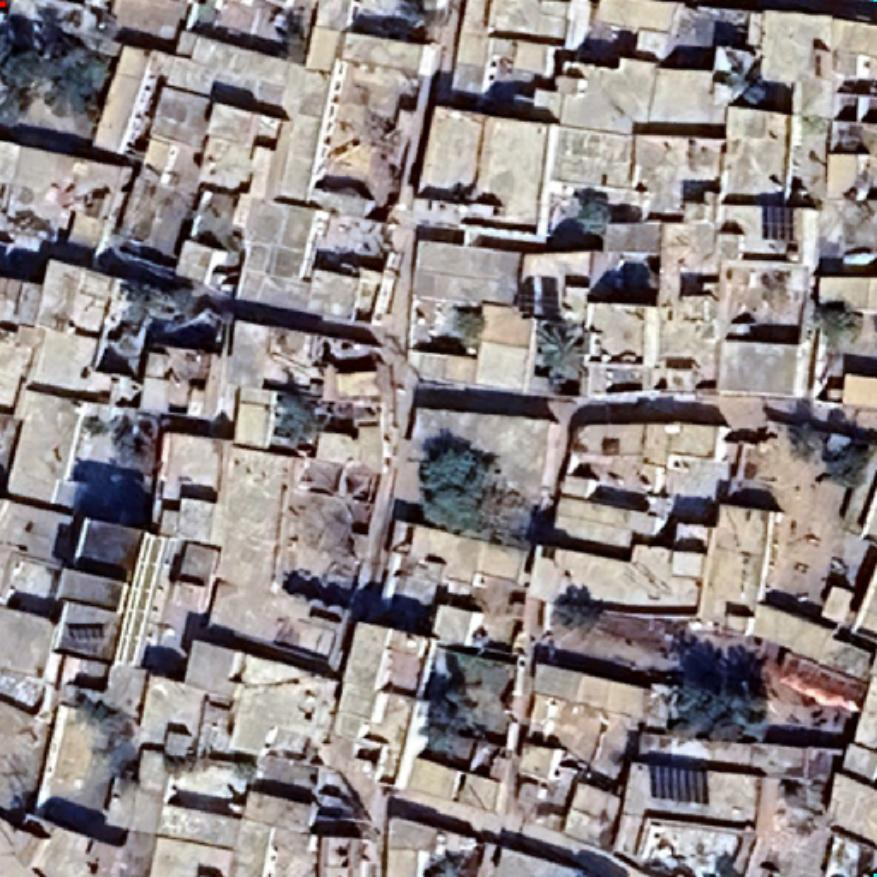Solarpanel: (645, 757, 713, 809), (514, 271, 562, 323), (758, 200, 798, 244), (64, 620, 106, 641)
